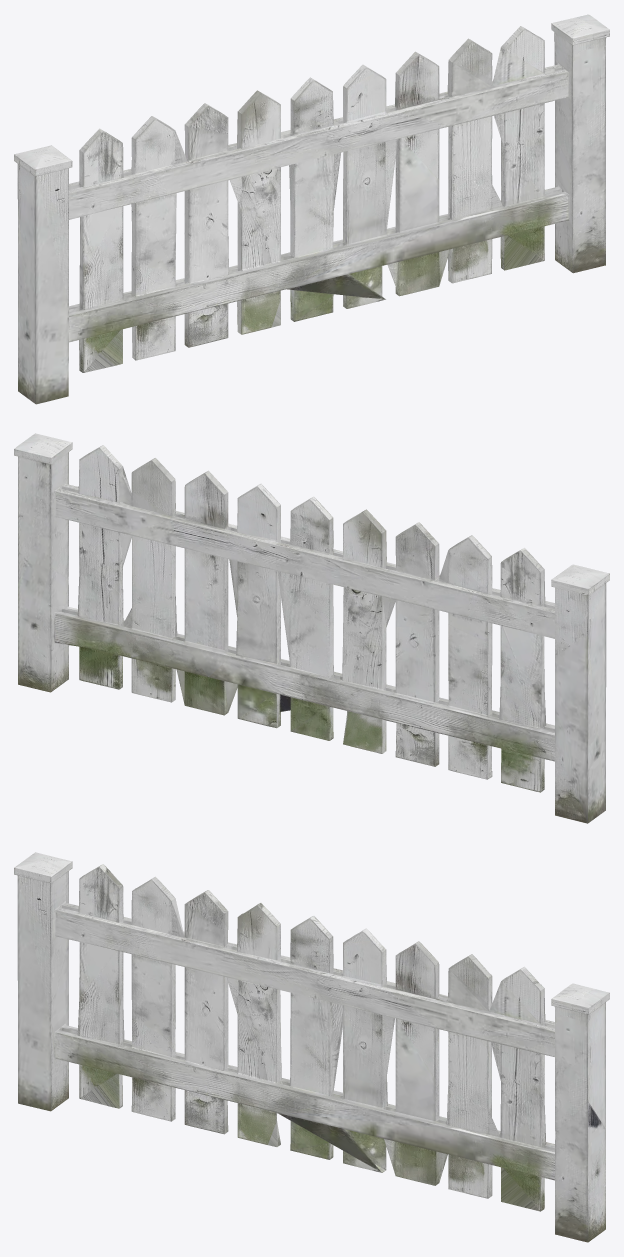
File: picket_fence.glb
3 renders of one model, top to bottom at view 1: azimuth 30°, elevation 25°; view 2: azimuth 150°, elevation 25°; view 3: azimuth 330°, elevation 25°, orthographic.
Parts seen in each view (by area): view 1: Mesh_0; view 2: Mesh_0; view 3: Mesh_0.
Part boxes in pixels (x1=…): Mesh_0: x1=14, y1=14, x2=609, y2=404; Mesh_0: x1=14, y1=433, x2=609, y2=823; Mesh_0: x1=14, y1=852, x2=609, y2=1242.
Bounding box in the file's own units: 1.9 × 0.7889 × 0.1219.
1 material, 1 textured.
